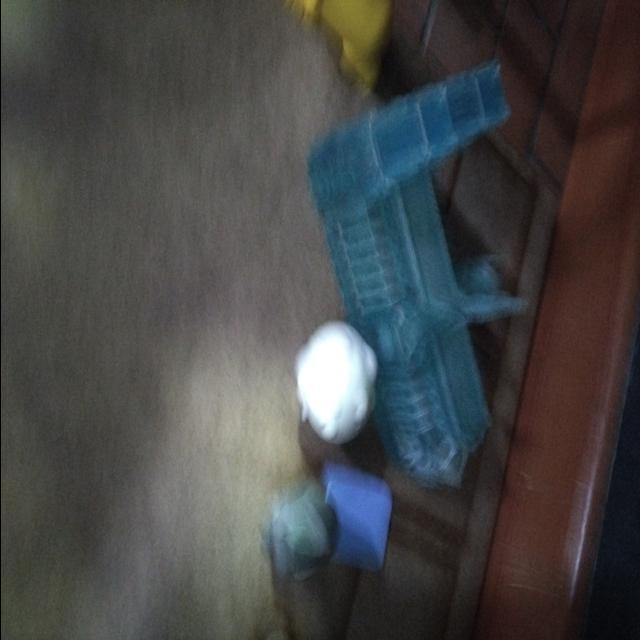Hongo: (290, 312, 382, 450)
